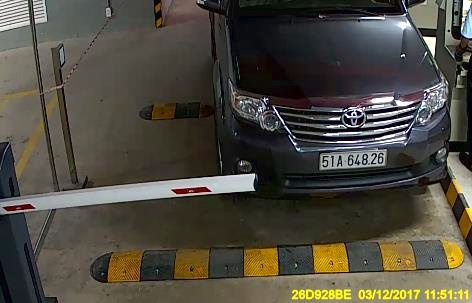plate: (319, 149, 388, 170)
